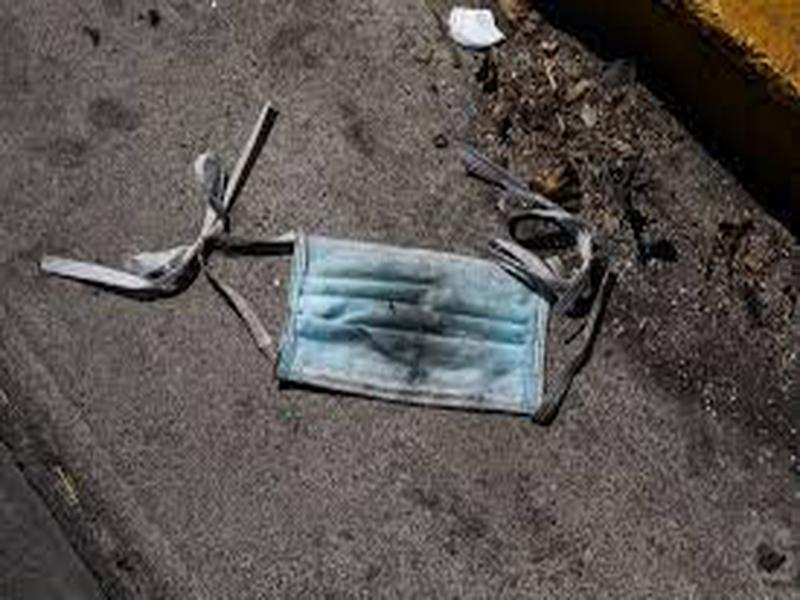mask: (185, 103, 612, 432)
